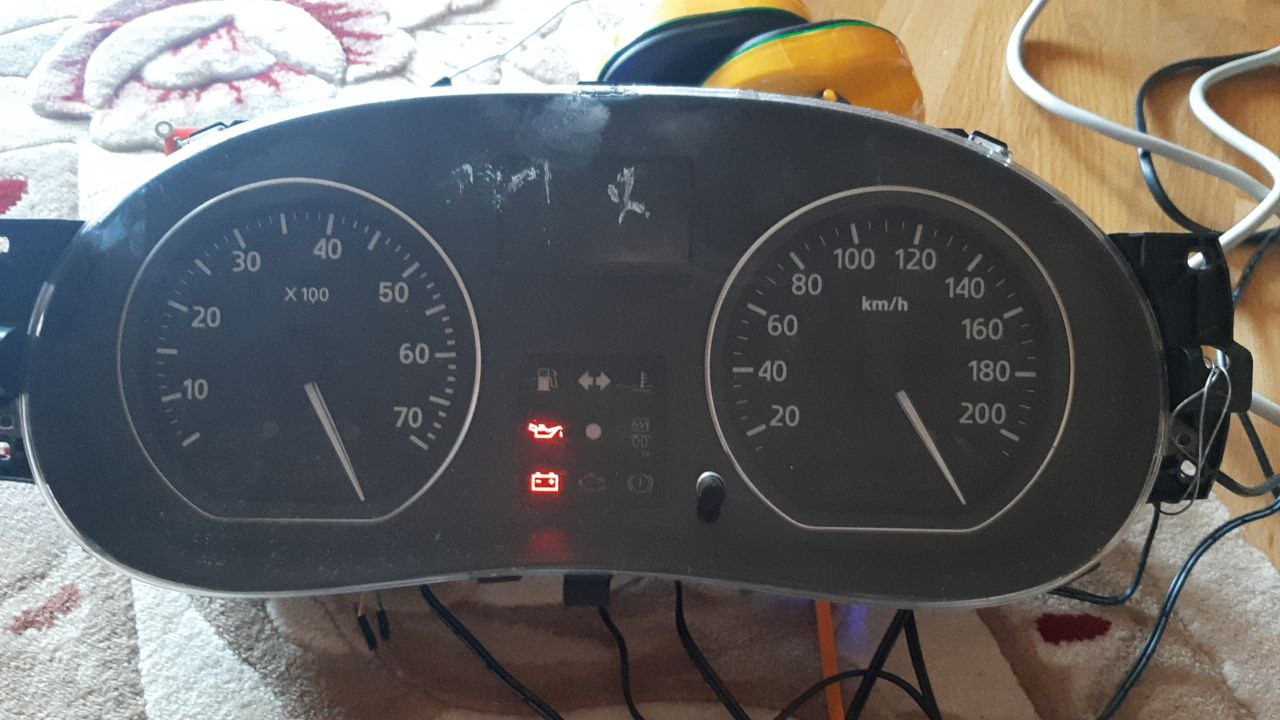accumulator: (519, 471, 564, 495)
oil: (520, 418, 566, 444)
